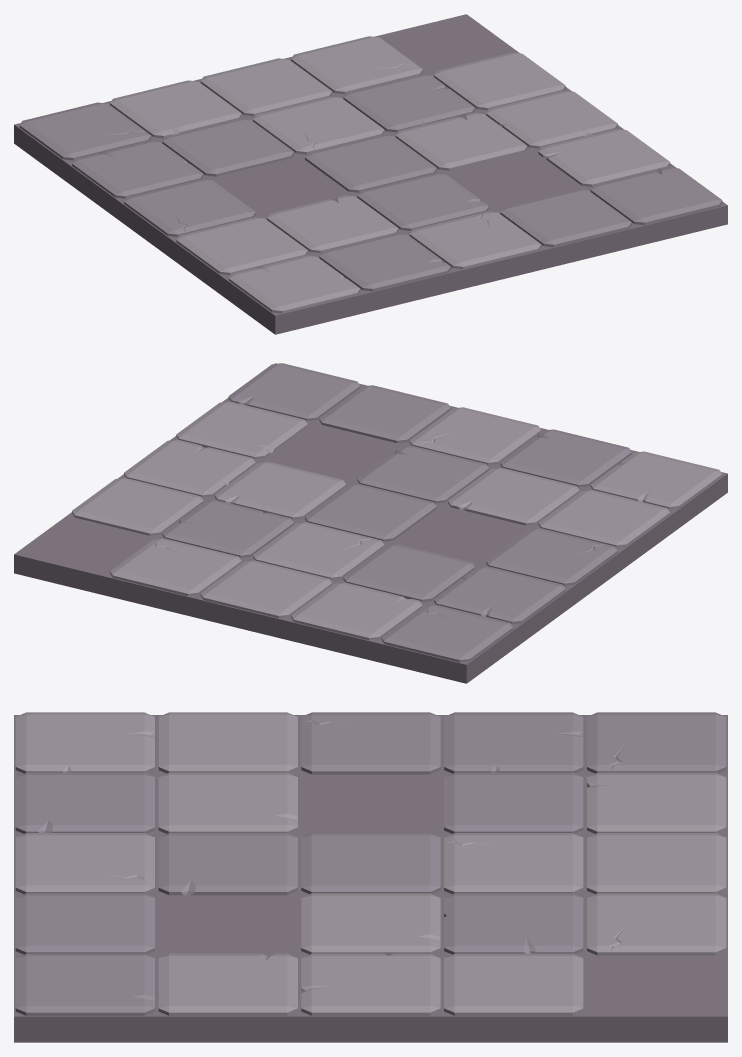
Rendered from floor stone 1.fbx.
The picture shows the model from 3 angles, top to bottom: view 1: azimuth 30°, elevation 25°; view 2: azimuth 150°, elevation 25°; view 3: azimuth 270°, elevation 25°; orthographic projection. The views are drawn at different scales.
Visible parts, largest first — view 1: pCube106; view 2: pCube106; view 3: pCube106.
Part boxes in pixels (<box>): pCube106: <box>14,14,727,334</box>; pCube106: <box>14,363,727,683</box>; pCube106: <box>14,712,727,1042</box>.
Size of the model in its own units: 5 by 0.2417 by 5.
